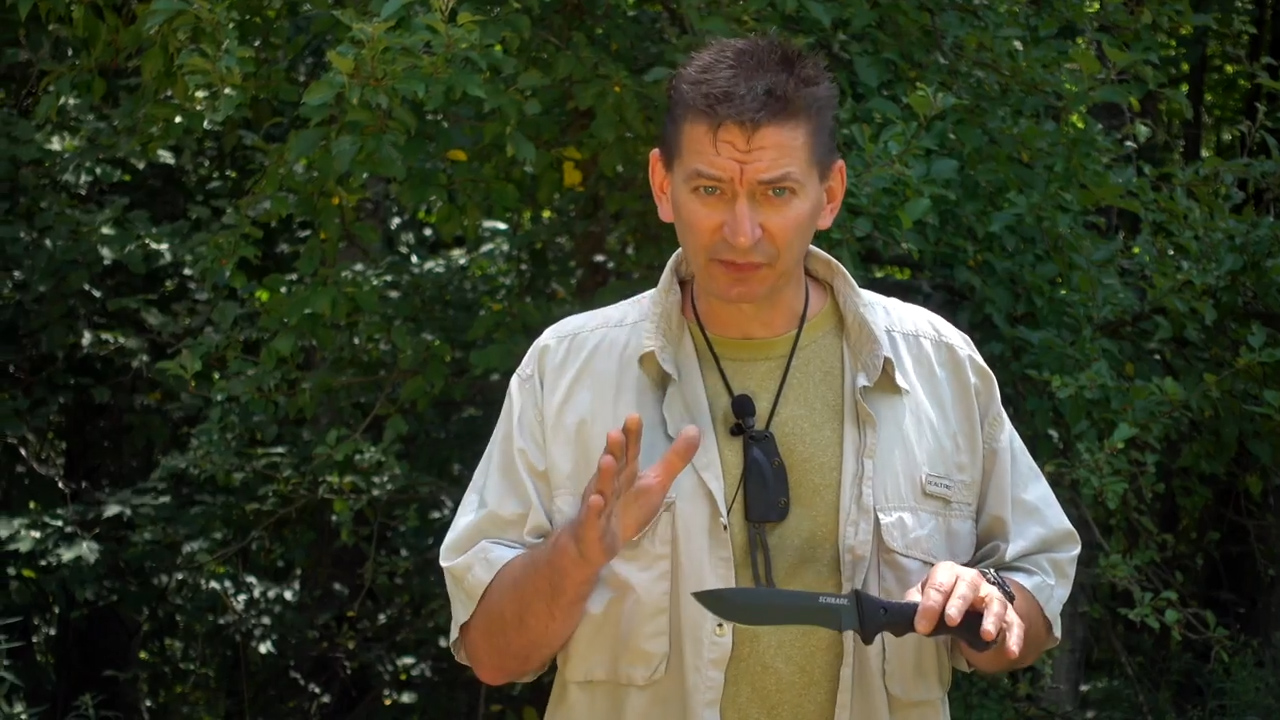knife: (682, 555, 1025, 668)
